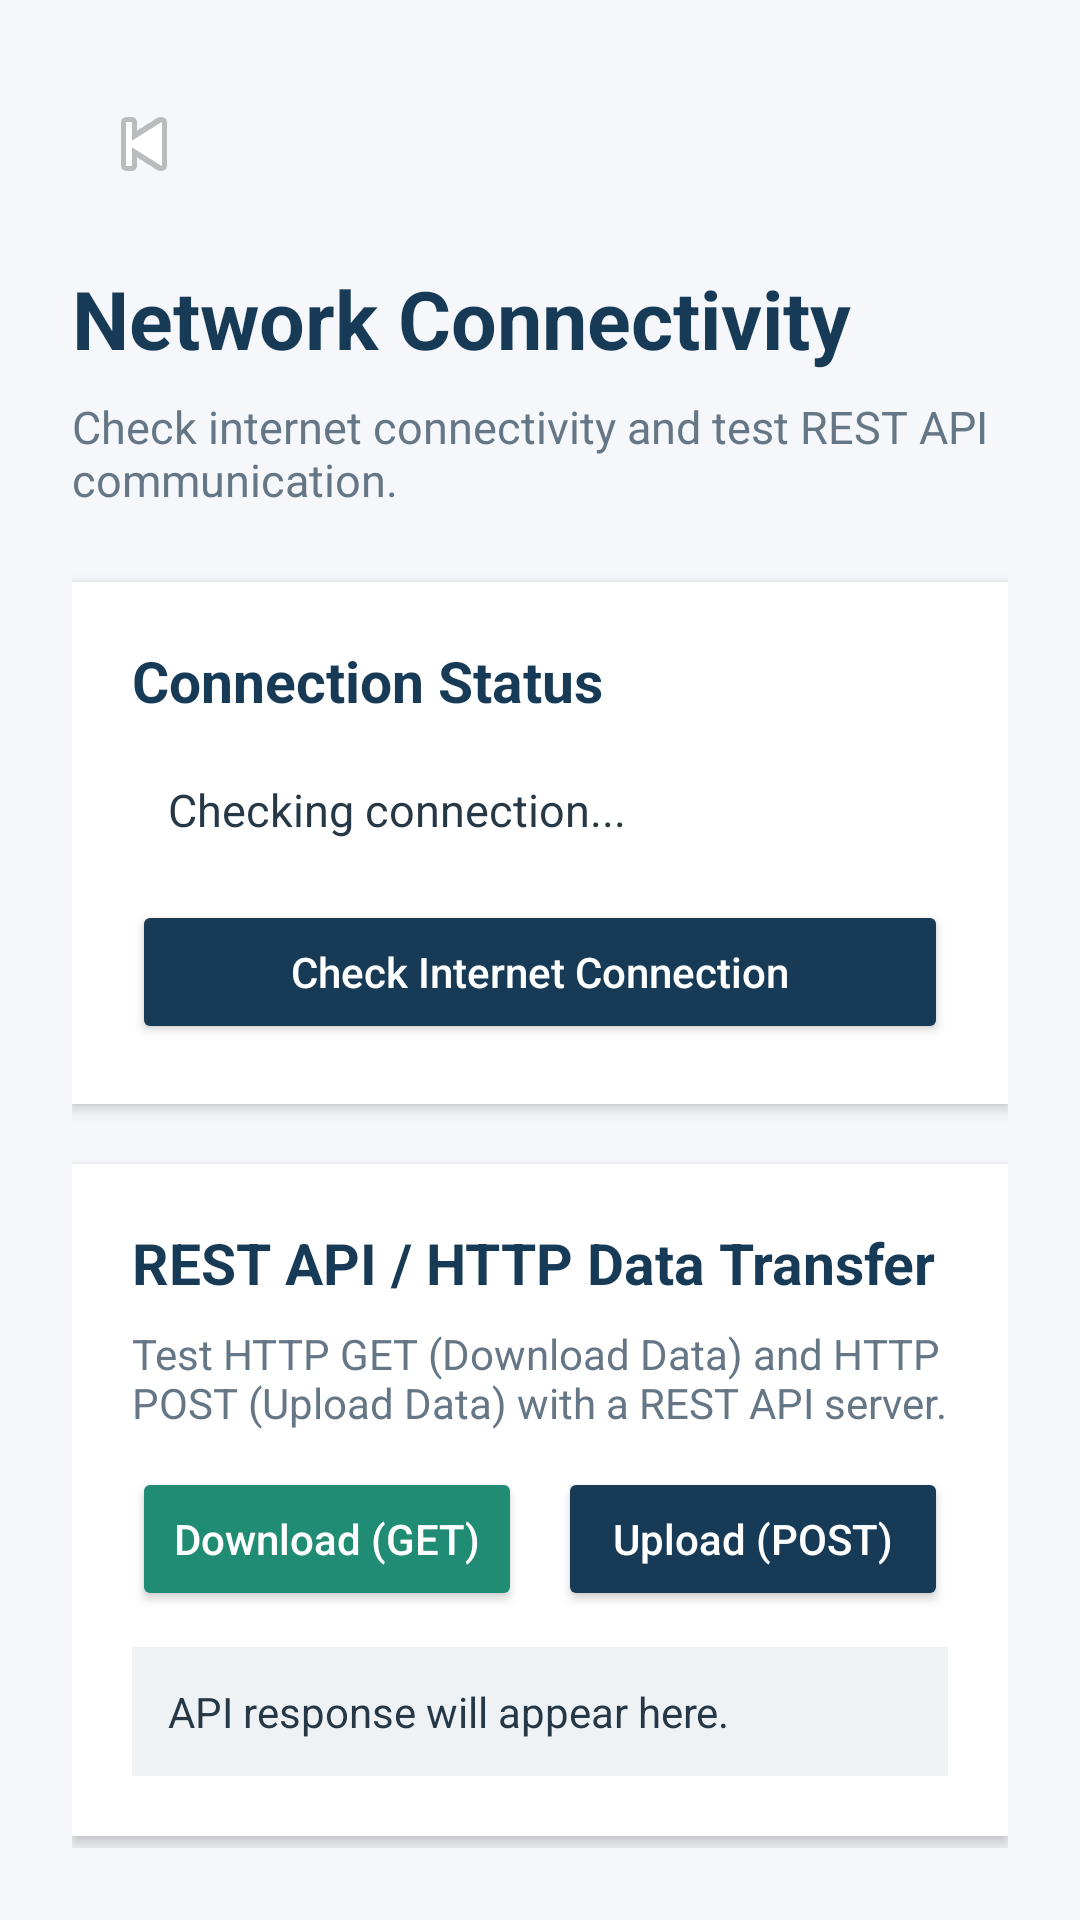

Icons on this 1080 × 1920 Android screen, each with the point to tap as (x=x, y=y):
Go back: (x=144, y=144)
